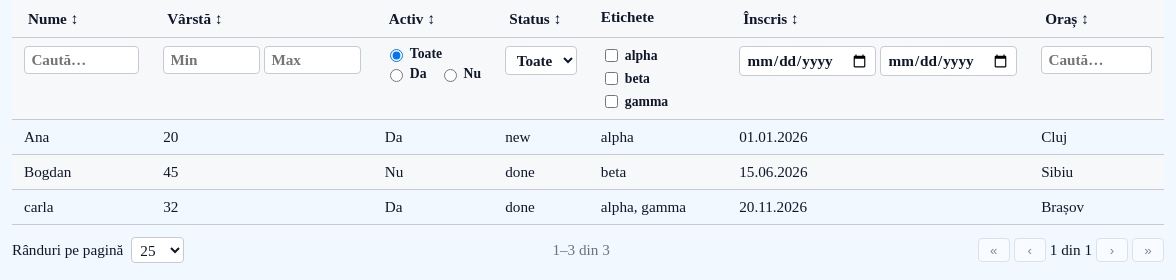
Scenario: DataTable filtering › date range filter keeps rows on or after the from date and clears when emptied
Type "2026-06-01" into the date field named "Filtrează Înscris — De la".
click(808, 61); type("2026-06-01")  # box [739, 46, 876, 76]
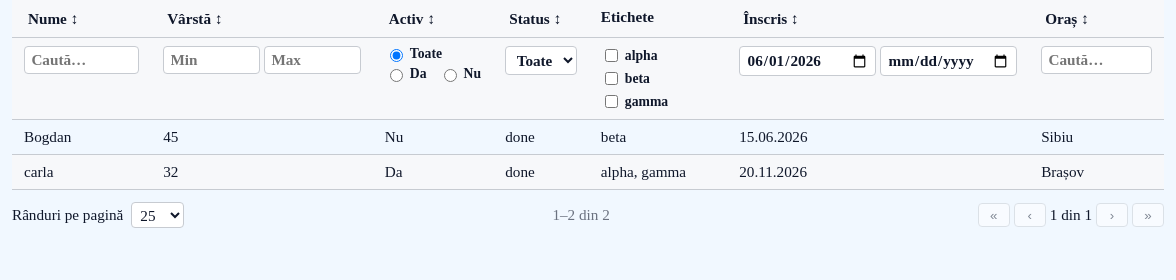
Expected: the cell "Bogdan" is shown, [12, 120, 151, 155]
Result: the cell "Ana" is gone
Clear the date field named "Filtrează Înscris — De la" at (808, 61), box [739, 46, 876, 76]
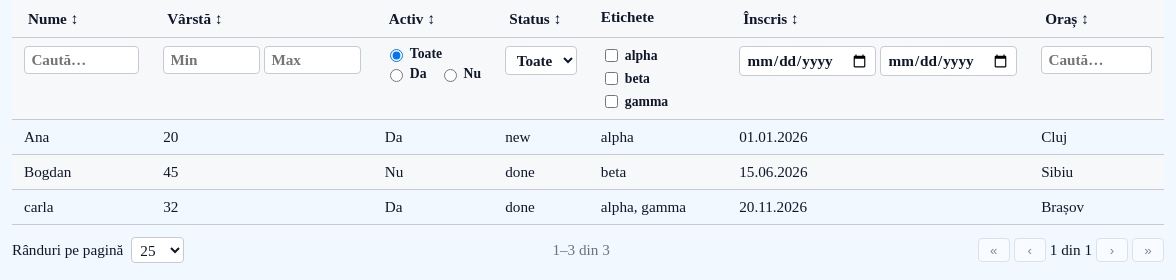
Result: the cell "Ana" is shown at [12, 120, 151, 155]
